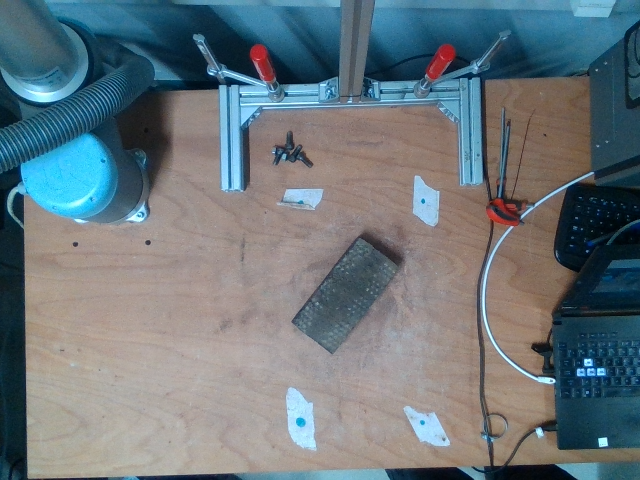brick: (294, 237, 401, 355)
